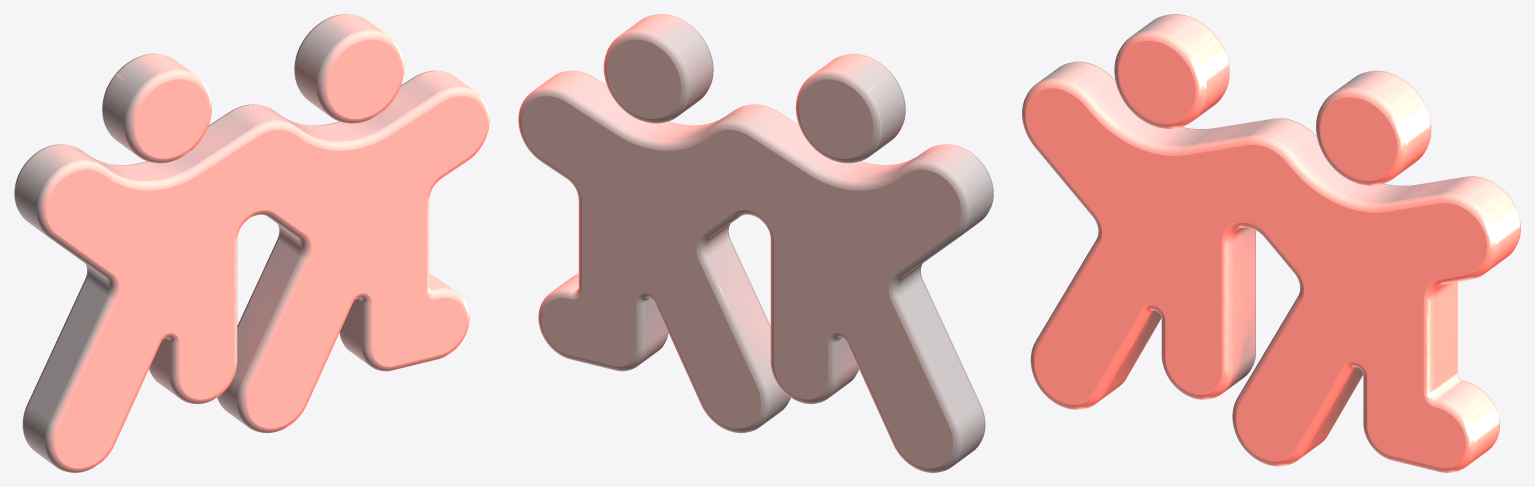
Rendered from REDMEN.glb.
3 renders of one model, left to right at view 1: azimuth 30°, elevation 25°; view 2: azimuth 150°, elevation 25°; view 3: azimuth 330°, elevation 25°, orthographic. The views are drawn at different scales.
Parts seen in each view (by area): view 1: PA_MEN.ai; view 2: PA_MEN.ai; view 3: PA_MEN.ai.
Boxes of the visible parts, bbox=[...] form: PA_MEN.ai: bbox=[14, 14, 489, 472]; PA_MEN.ai: bbox=[518, 14, 993, 472]; PA_MEN.ai: bbox=[1022, 14, 1520, 472].
Bounding box in the file's own units: 2.03 × 1.66 × 0.225.
